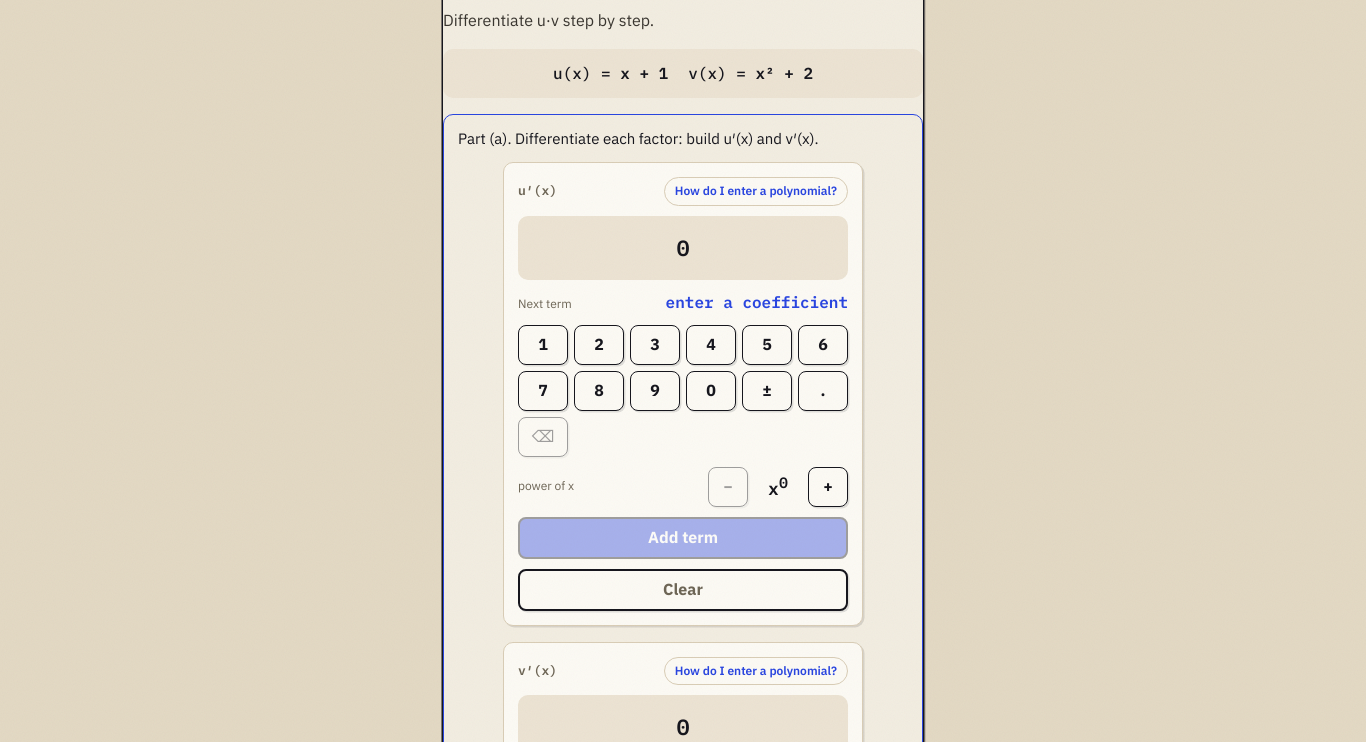
ProductRuleMultiPartSlide › shows wrong feedback when part (a) is incorrect
Note: u′ wrong (9), but v′ correct (2x) so only u′ should light up red.
Step 1. Click the button named "digit 9" → (655, 391), box x1=630 y1=371 x2=680 y2=411
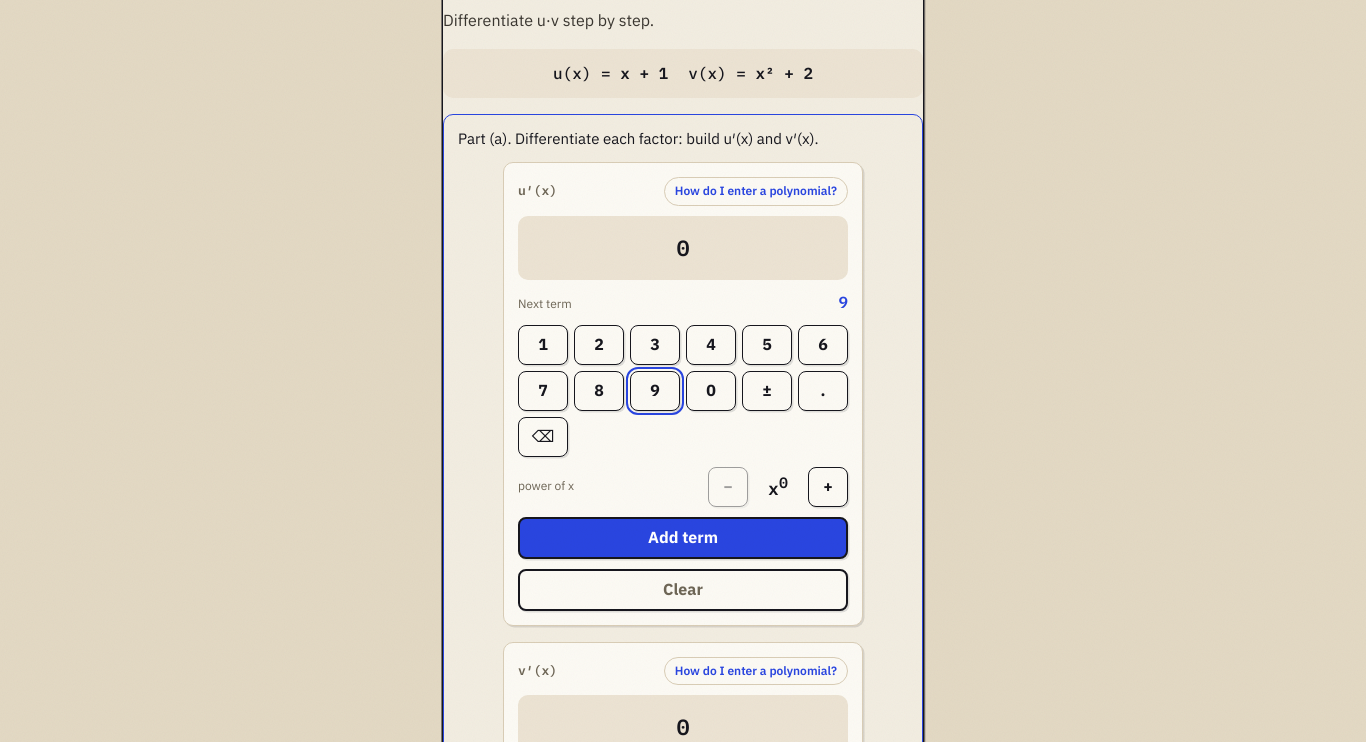
Step 2. Click the button "Add term" → (683, 538), box x1=518 y1=517 x2=848 y2=559
(page scrolled)
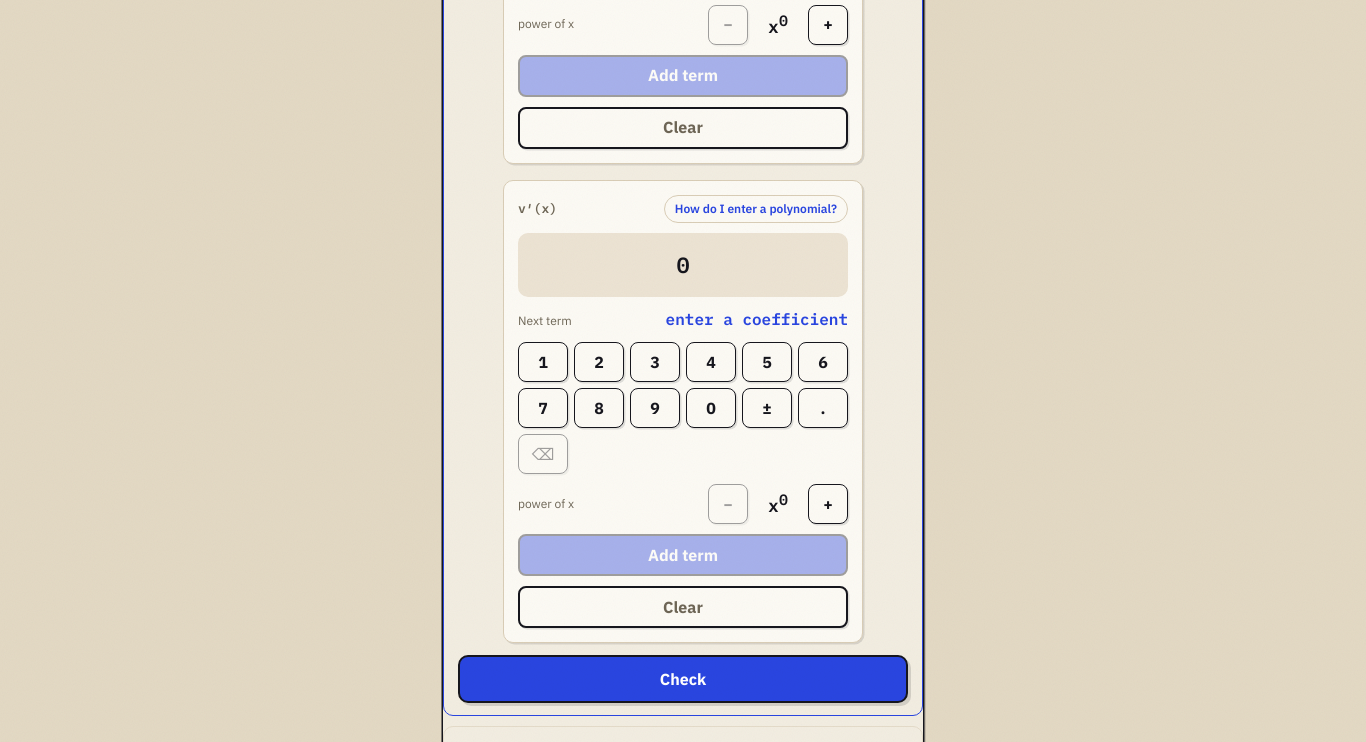
Step 3. Click the button named "digit 2" → (599, 362), box x1=574 y1=342 x2=624 y2=382
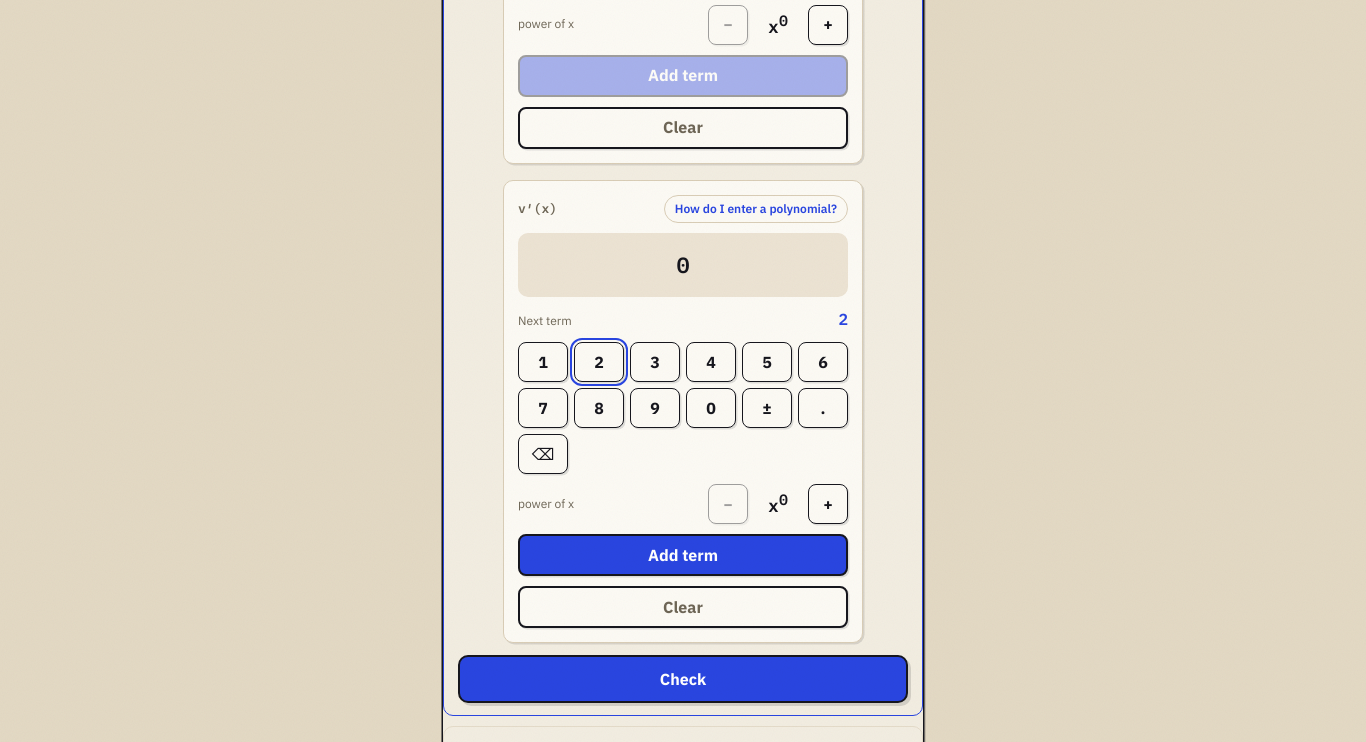
Step 4. Click the button named "increase power" → (828, 504), box x1=808 y1=484 x2=848 y2=524
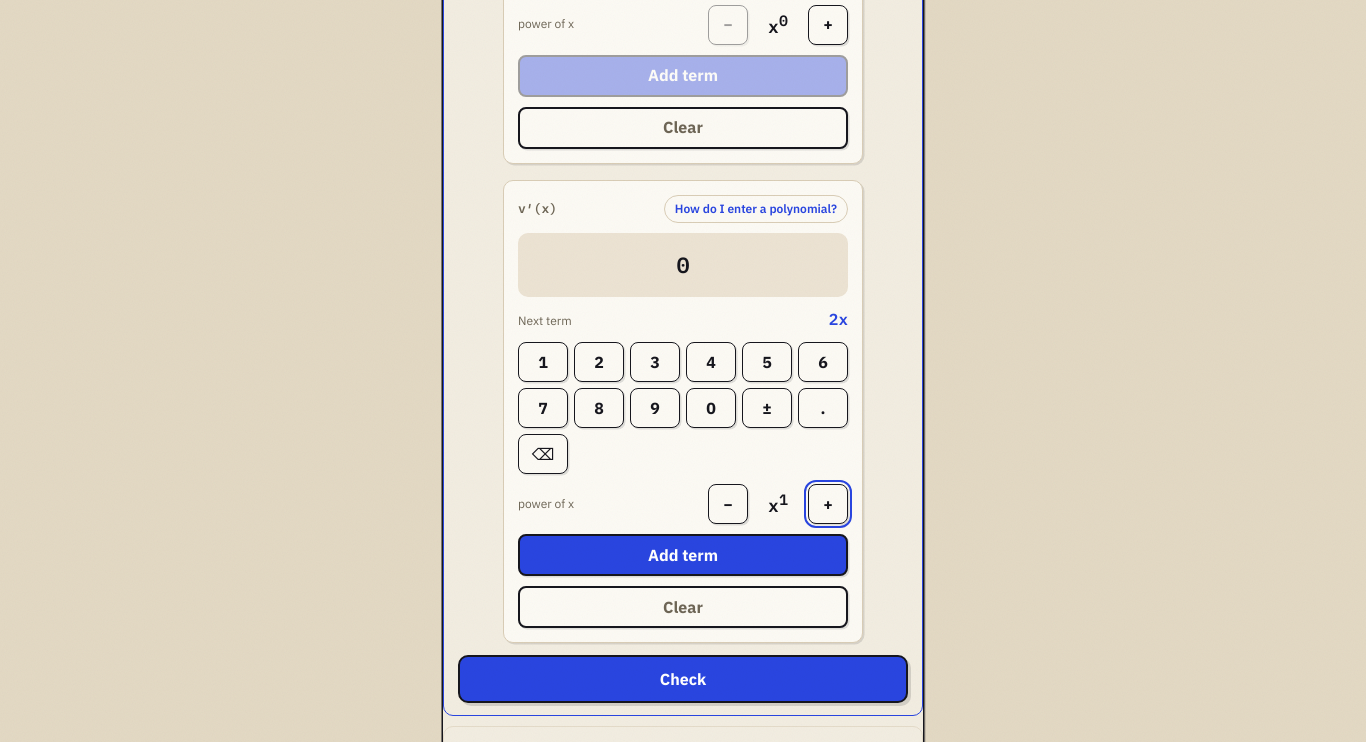
Step 5. Click the button "Add term" below "2x" → (683, 555), box x1=518 y1=534 x2=848 y2=576
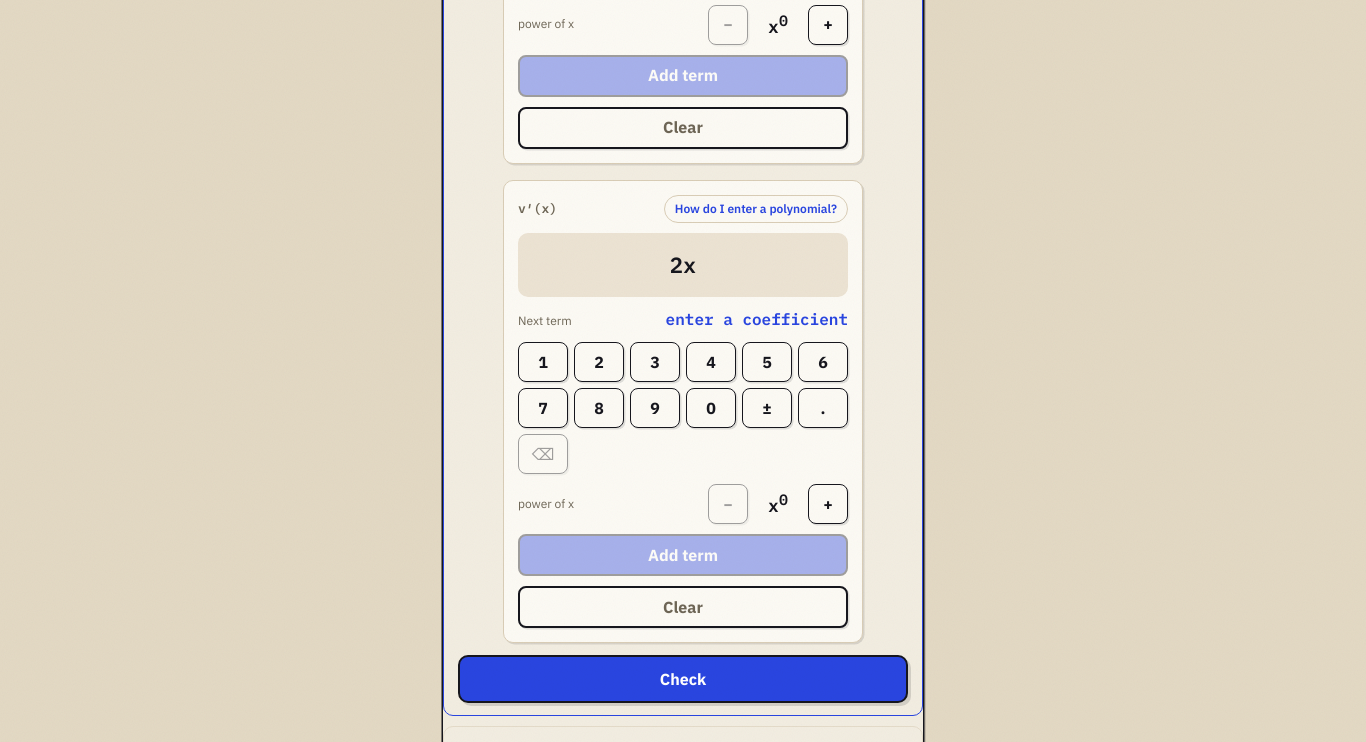
Step 6. Click the button "Check" → (683, 679), box x1=458 y1=655 x2=908 y2=703
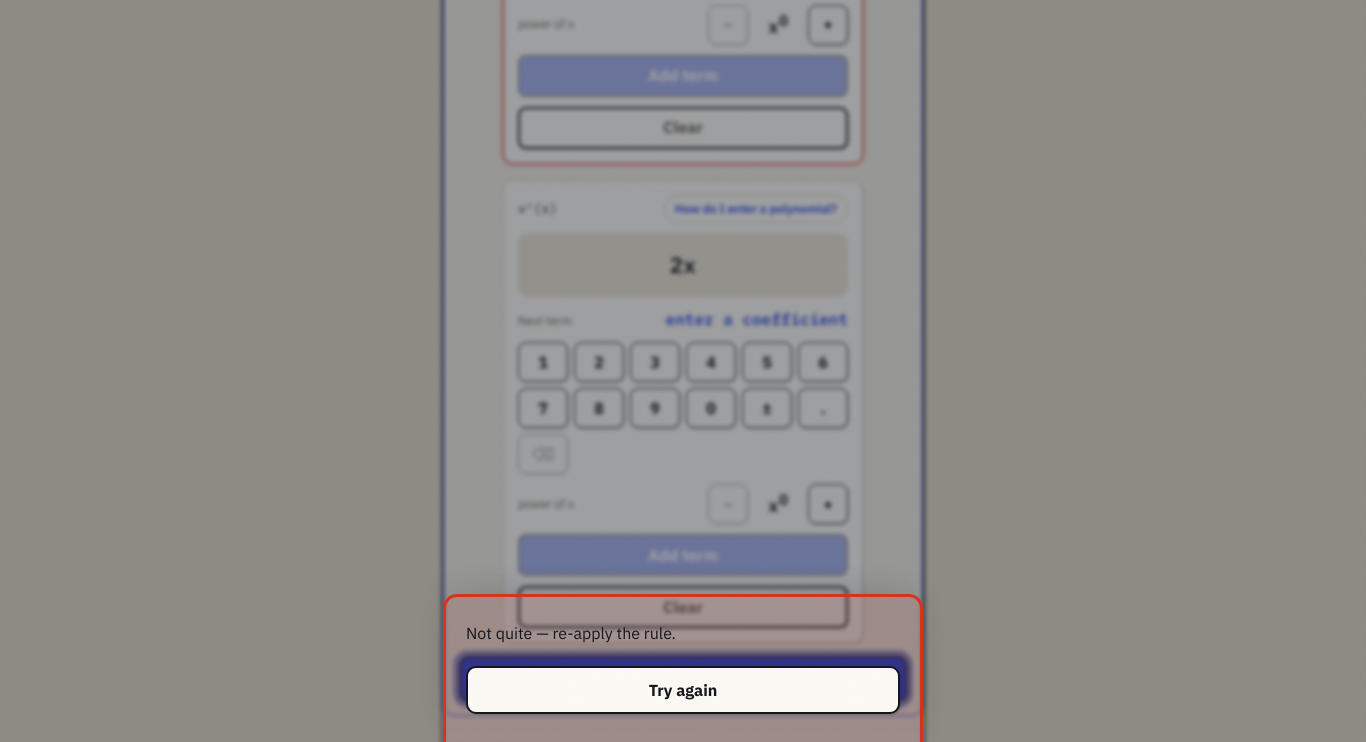
Now the text "Not quite — re-apply the rule." is shown, box x1=466 y1=623 x2=676 y2=643
